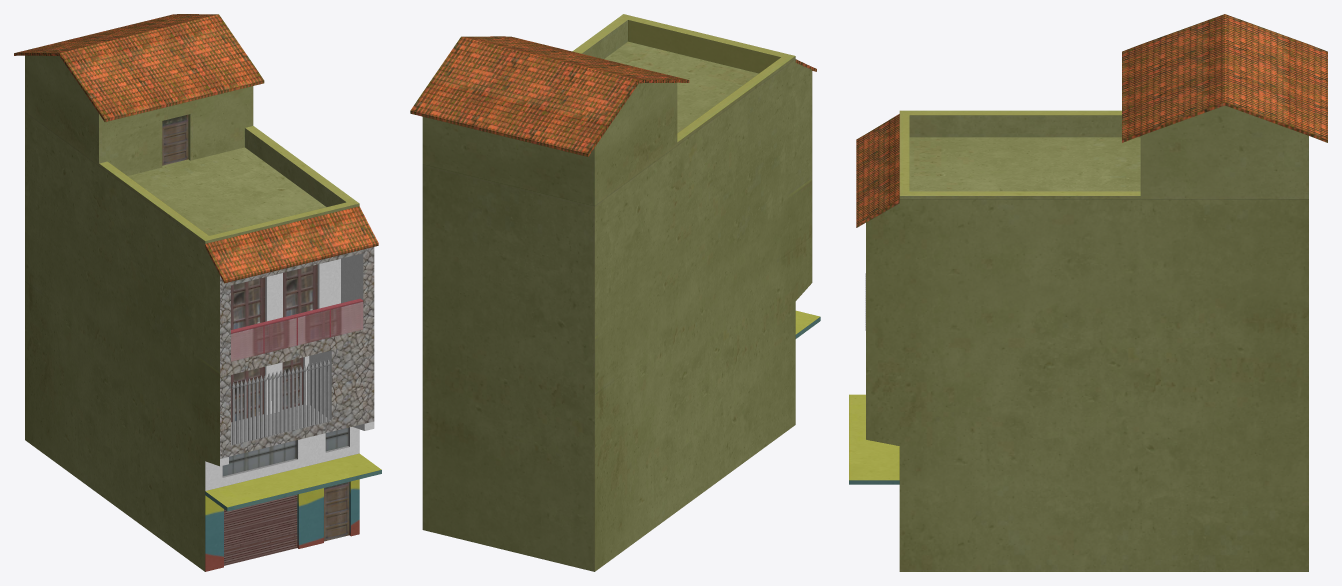
Rendered from Building13.FBX.
3 renders of one model, left to right at view 1: azimuth 30°, elevation 25°; view 2: azimuth 150°, elevation 25°; view 3: azimuth 270°, elevation 25°, orthographic. The views are drawn at different scales.
Parts seen in each view (by area): view 1: trade clothes; view 2: trade clothes; view 3: trade clothes.
Part boxes in pixels (left/top/right/bottom): trade clothes: left=14, top=14, right=381, bottom=571; trade clothes: left=410, top=14, right=820, bottom=571; trade clothes: left=849, top=14, right=1327, bottom=571.
Bounding box in the file's own units: 244 × 558 × 606.
1 material, 1 textured.
